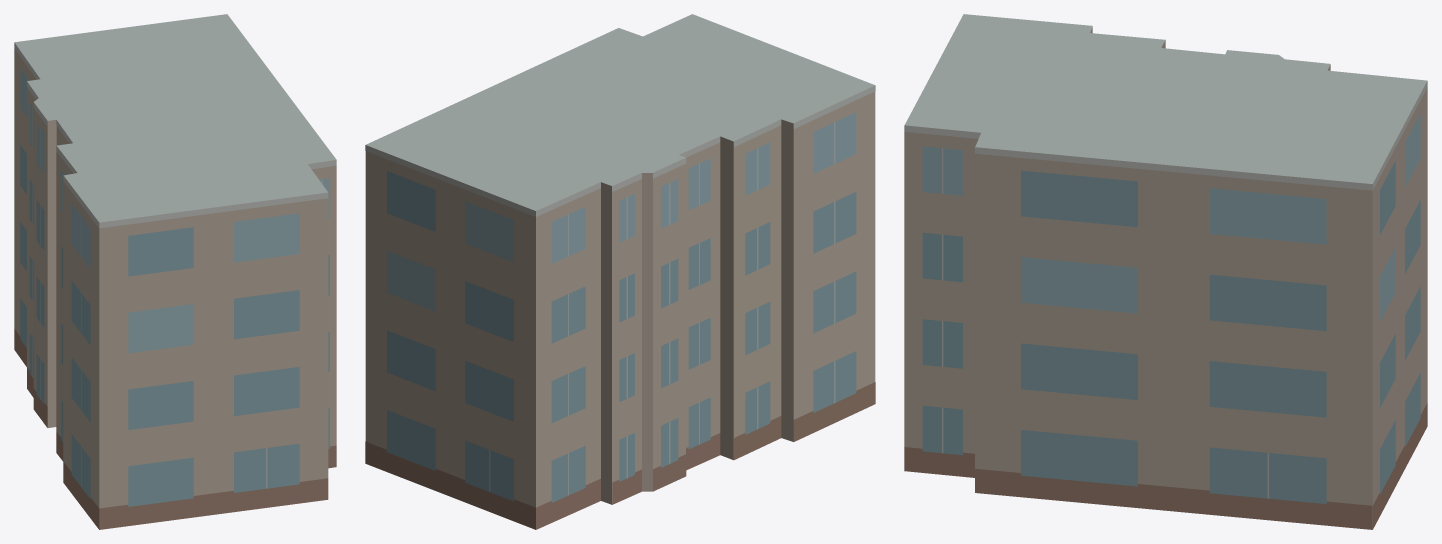
File: survey-upis-32625403.glb
3 renders of one model, left to right at view 1: azimuth 30°, elevation 25°; view 2: azimuth 150°, elevation 25°; view 3: azimuth 270°, elevation 25°, orthographic. The views are drawn at different scales.
Parts seen in each view (by area): view 1: survey-upis-32625403.tmp; view 2: survey-upis-32625403.tmp; view 3: survey-upis-32625403.tmp.
Boxes of the visible parts, left/top/right/bottom form: survey-upis-32625403.tmp: left=14, top=14, right=336, bottom=529; survey-upis-32625403.tmp: left=365, top=14, right=875, bottom=529; survey-upis-32625403.tmp: left=904, top=14, right=1427, bottom=529.
Bounding box in the file's own units: 13.84 × 13.1 × 17.97.
